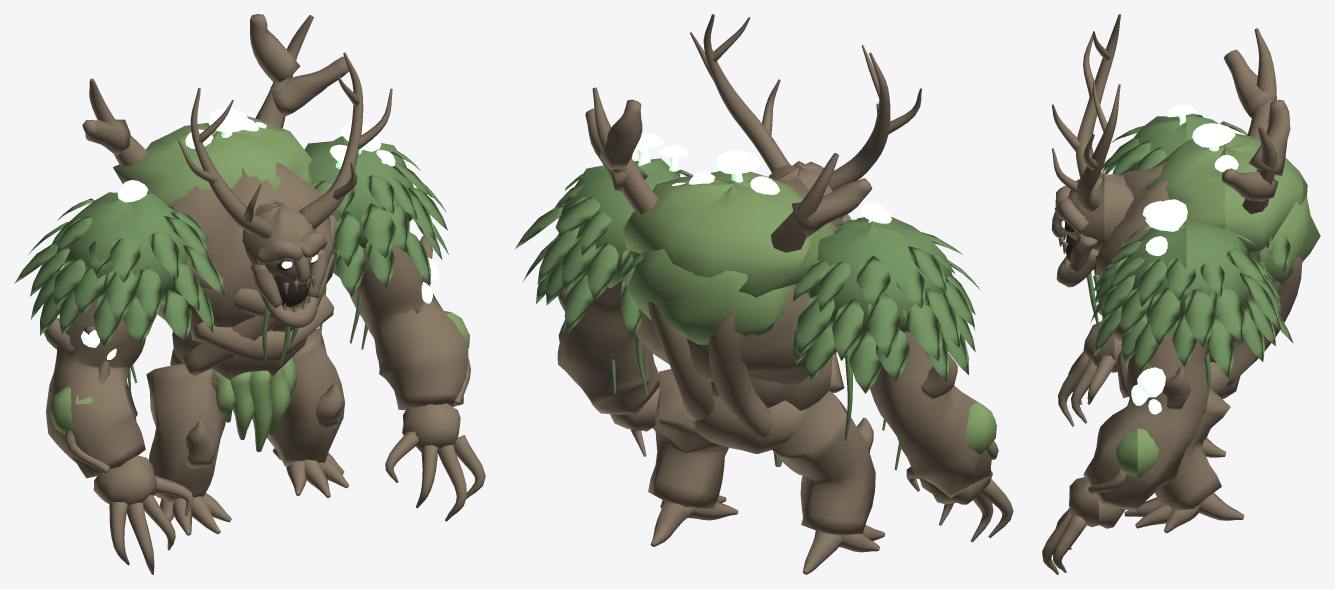
Rendered from forest_monster.glb.
3 views of the same model, side by side, from view 1: azimuth 30°, elevation 25°; view 2: azimuth 150°, elevation 25°; view 3: azimuth 270°, elevation 25° (orthographic). The views are drawn at different scales.
Parts seen in each view (by area): view 1: Torso_Head_Antlers_Bark, Foliage_Shoulders_Vines, Arms_Claws_Bark, Legs_Roots_Bark, Moss_Drape_Patches, Bioluminescent_Eyes_Mushrooms, Mouth_Eye_Hollows; view 2: Foliage_Shoulders_Vines, Torso_Head_Antlers_Bark, Moss_Drape_Patches, Arms_Claws_Bark, Legs_Roots_Bark, Bioluminescent_Eyes_Mushrooms; view 3: Foliage_Shoulders_Vines, Torso_Head_Antlers_Bark, Arms_Claws_Bark, Moss_Drape_Patches, Legs_Roots_Bark, Bioluminescent_Eyes_Mushrooms.
Boxes of the visible parts, x1,y1,x2,y2 form: Torso_Head_Antlers_Bark: (82, 14, 392, 389); Foliage_Shoulders_Vines: (14, 136, 448, 393); Arms_Claws_Bark: (44, 236, 485, 574); Legs_Roots_Bark: (146, 328, 348, 535); Moss_Drape_Patches: (50, 116, 469, 451); Bioluminescent_Eyes_Mushrooms: (81, 108, 438, 359); Mouth_Eye_Hollows: (273, 254, 317, 307); Foliage_Shoulders_Vines: (514, 158, 980, 469); Torso_Head_Antlers_Bark: (585, 14, 921, 453); Moss_Drape_Patches: (558, 171, 996, 466); Arms_Claws_Bark: (557, 270, 1013, 542); Legs_Roots_Bark: (648, 369, 885, 574); Bioluminescent_Eyes_Mushrooms: (632, 133, 951, 357); Foliage_Shoulders_Vines: (1086, 113, 1293, 442); Torso_Head_Antlers_Bark: (1051, 14, 1302, 398); Arms_Claws_Bark: (1042, 309, 1209, 574); Moss_Drape_Patches: (1116, 133, 1320, 478); Legs_Roots_Bark: (1117, 350, 1244, 533); Bioluminescent_Eyes_Mushrooms: (1061, 105, 1238, 414).
Size of the model in its own units: 3.58 by 3.91 by 2.16.
